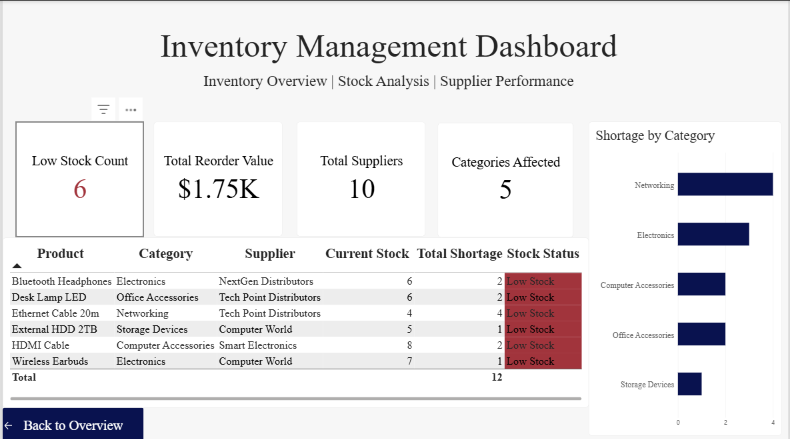

What the dashboard file says about the page in this screenshot:
{"tool":"powerbi","page":{"name":"Low Stock Details","canvas":[1920,1080],"ordinal":1},"visuals":[{"type":"tableEx","fields":{"Values":["public products.product_name","public categories.category_name","public suppliers.supplier_name","public categories.Current Stock Display","public categories.Total Shortage","public products.Stock Status"]},"box":[4.9,578.2,1424.9,414.8],"z":0},{"type":"textbox","box":[187.9,63.4,1507.8,200.1],"z":1000},{"type":"cardVisual","fields":{"Data":["public categories.Low Stock Count"]},"box":[31.7,295.2,312.3,280.6],"z":2000},{"type":"cardVisual","fields":{"Data":["public categories.Total Reorder Value"]},"box":[368.4,295.2,314.7,280.6],"z":3000},{"type":"cardVisual","fields":{"Data":["public categories.Total Suppliers"]},"box":[717.3,295.2,314.7,280.6],"z":4000},{"type":"cardVisual","fields":{"Data":["public categories.Categories Affected"]},"box":[1061.3,297.7,331.8,280.6],"z":5000},{"type":"clusteredBarChart","title":"Shortage by Category","fields":{"Category":["public categories.category_name"],"Y":["public categories.Total Shortage"]},"box":[1429.7,295.2,470.9,766.1],"z":6000},{"type":"actionButton","box":[31.7,1015,312.3,65.9],"z":7000}]}

Visuals, with their boxes in screenshot pixels (x1, y1, x2, y2), scaled from the page's 1920x1080 canvas onto the 790x439 screenshot:
tableEx - public products.product_name x public categories.category_name: <box>2,235,588,404</box>
textbox: <box>77,26,698,107</box>
cardVisual - public categories.Low Stock Count: <box>13,120,142,234</box>
cardVisual - public categories.Total Reorder Value: <box>152,120,281,234</box>
cardVisual - public categories.Total Suppliers: <box>295,120,425,234</box>
cardVisual - public categories.Categories Affected: <box>437,121,573,235</box>
"Shortage by Category" clusteredBarChart: <box>588,120,782,431</box>
actionButton: <box>13,413,142,438</box>
